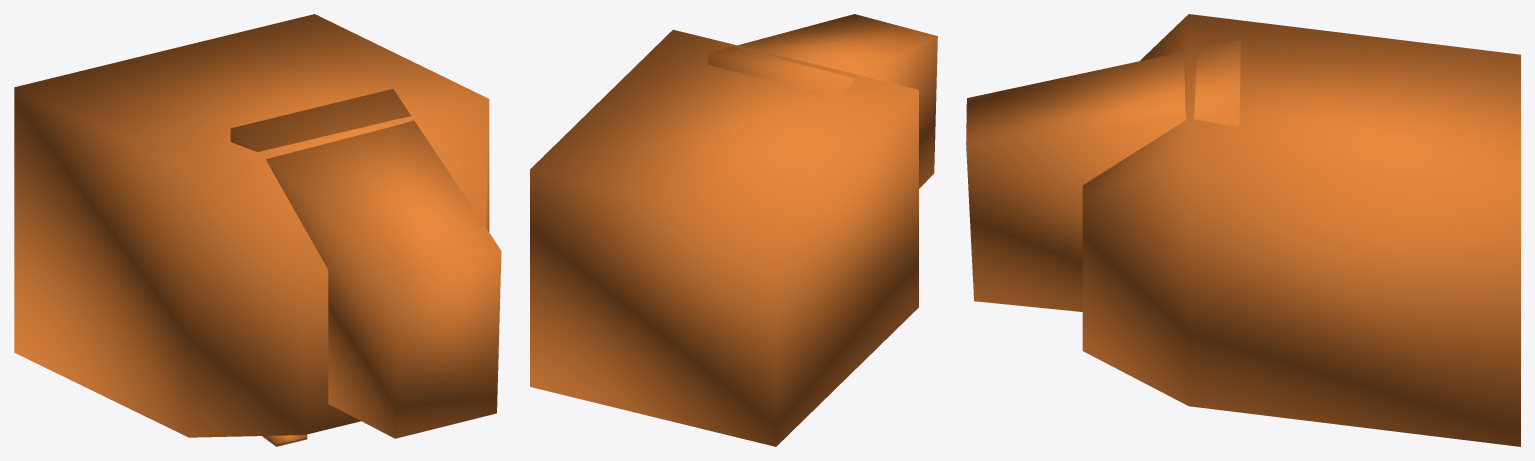
Rendered from cuy.glb.
3 renders of one model, left to right at view 1: azimuth 30°, elevation 25°; view 2: azimuth 150°, elevation 25°; view 3: azimuth 270°, elevation 25°, orthographic. The views are drawn at different scales.
Visible parts, largest first — view 1: Cube, Cube.001; view 2: Cube, Cube.001; view 3: Cube, Cube.001.
Part boxes in pixels (x1,y1,x2,y2): Cube: (14,14,489,437); Cube.001: (230,89,501,438); Cube: (530,29,918,446); Cube.001: (708,14,937,188); Cube: (1082,14,1520,446); Cube.001: (966,39,1240,311).
Size of the model in its own units: 5.03 by 5.06 by 8.46.
